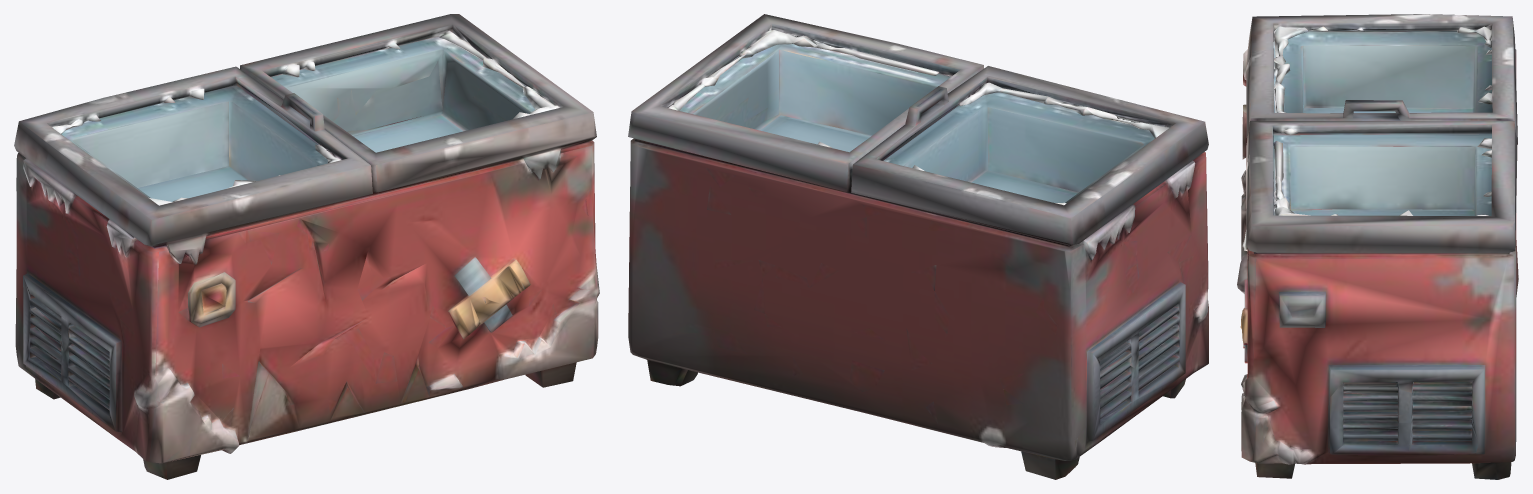
The model's file is bingui-1.glb.
3 renders of one model, left to right at view 1: azimuth 30°, elevation 25°; view 2: azimuth 150°, elevation 25°; view 3: azimuth 270°, elevation 25°, orthographic. The views are drawn at different scales.
Visible parts, largest first — view 1: node_0; view 2: node_0; view 3: node_0.
Boxes of the visible parts, x1,y1,x2,y2 form: node_0: (14,14,599,479); node_0: (628,14,1208,479); node_0: (1237,14,1518,479).
Size of the model in its own units: 0.9922 by 0.5869 by 0.5387.
1 material, 1 textured.
